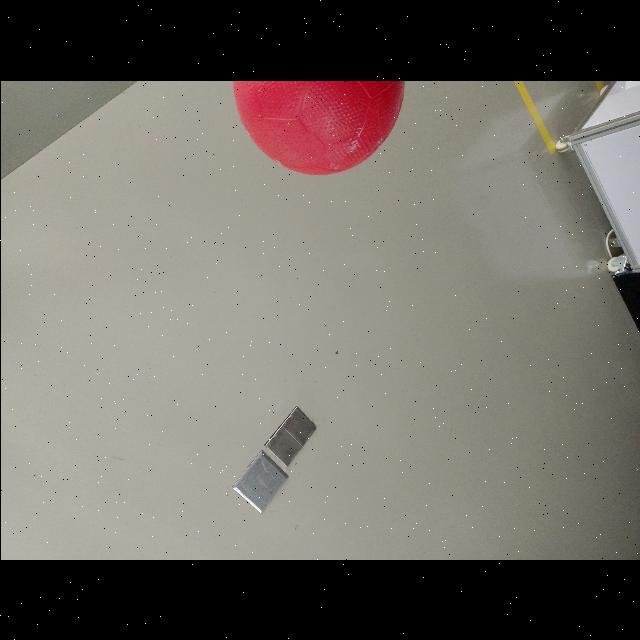R: (231, 80, 405, 176)
